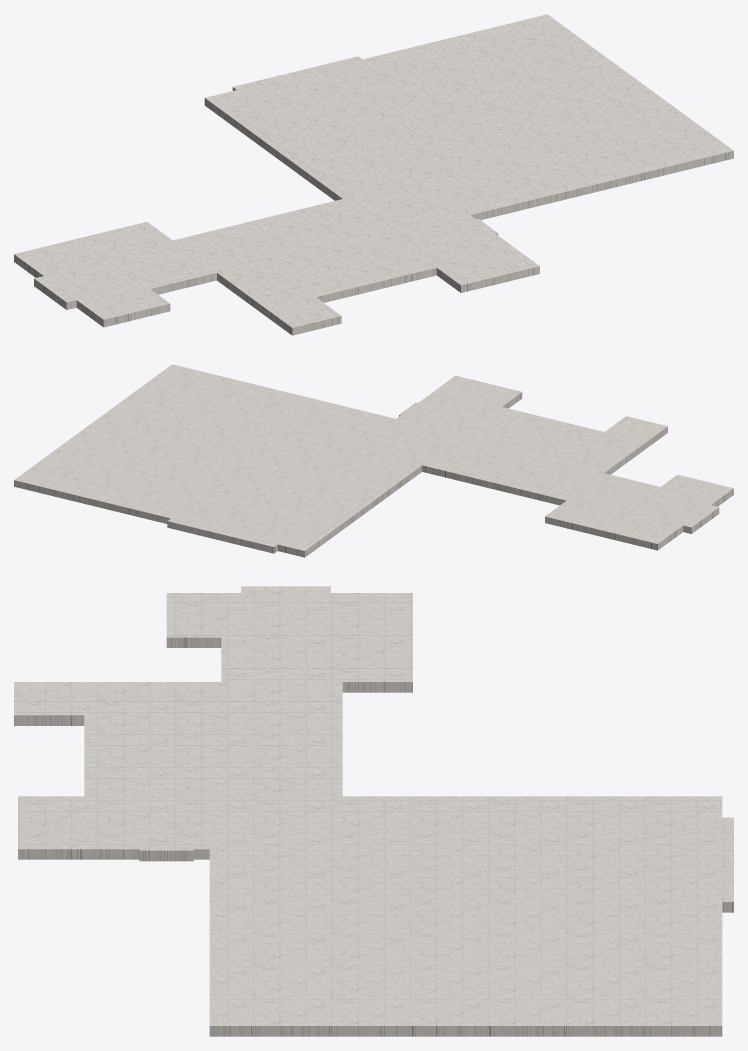
The model's file is 1860_kitchen_Floor_Glacier.gltf.
3 renders of one model, top to bottom at view 1: azimuth 30°, elevation 25°; view 2: azimuth 150°, elevation 25°; view 3: azimuth 270°, elevation 25°, orthographic. The views are drawn at different scales.
Parts seen in each view (by area): view 1: Line23781; view 2: Line23781; view 3: Line23781.
Part boxes in pixels (left/top/right/bottom): Line23781: left=14, top=14, right=733, bottom=335; Line23781: left=14, top=364, right=733, bottom=557; Line23781: left=14, top=586, right=733, bottom=1036.
Size of the model in its own units: 26.6 by 0.3 by 18.4.
